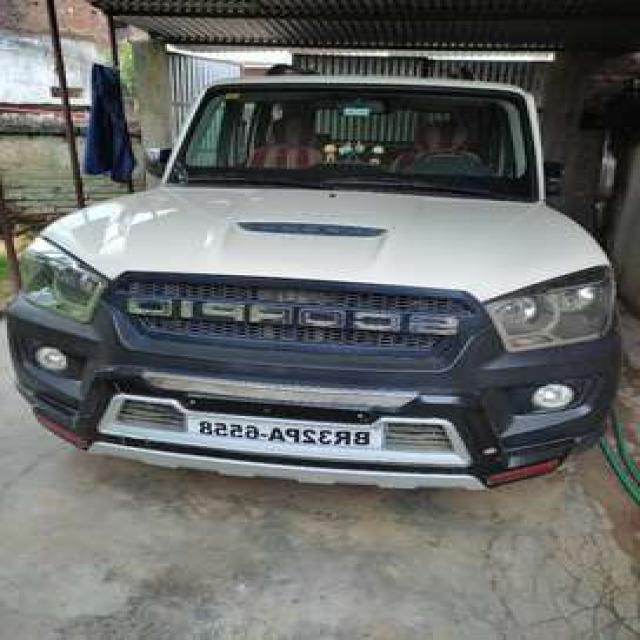license_plate: (187, 411, 384, 455)
